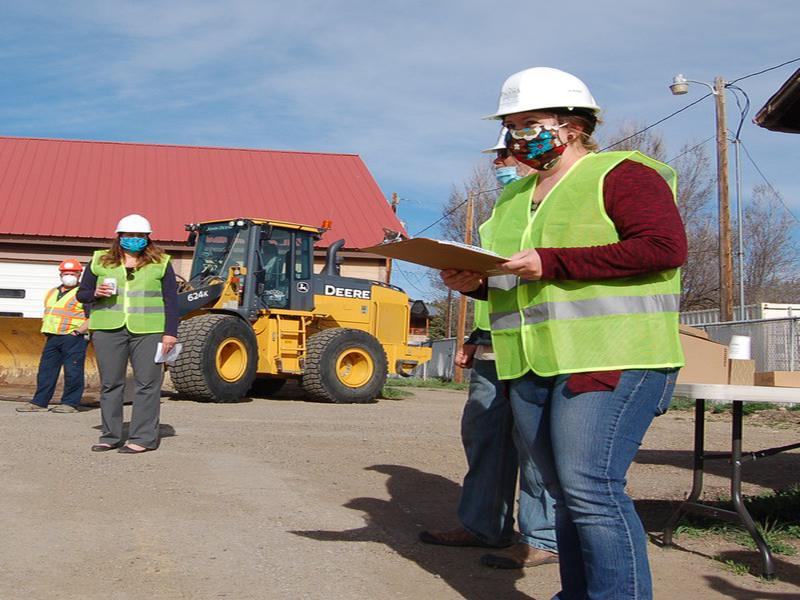hard-hat: (480, 65, 604, 124), (478, 110, 578, 161), (115, 213, 154, 240), (57, 257, 85, 275)
